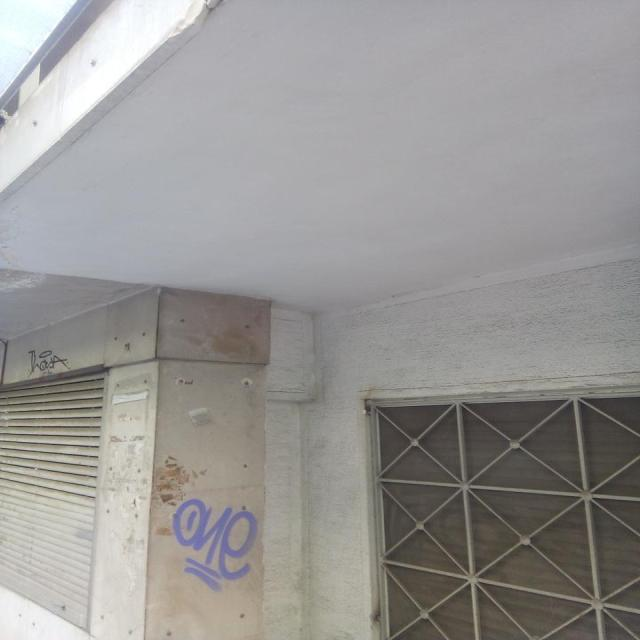nonspitting: (173, 499, 257, 591), (28, 349, 72, 377)
